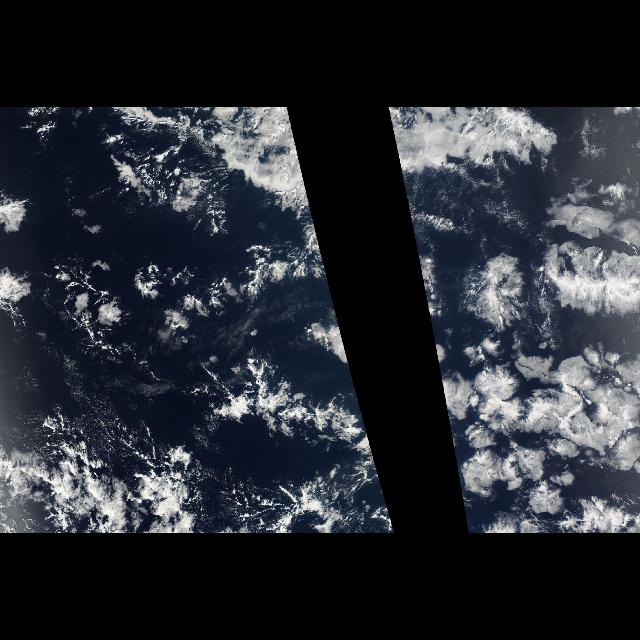Flower: (408, 192, 640, 530), (212, 217, 392, 525)
Gravel: (17, 240, 386, 532)
